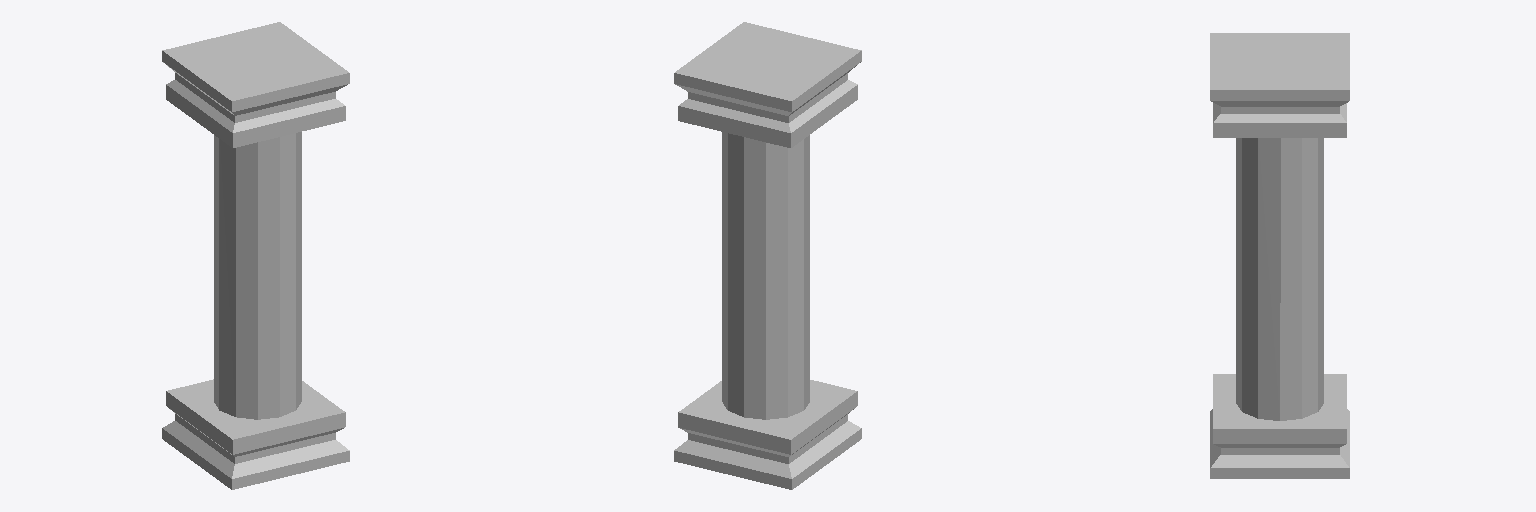
File: Columns.obj
3 views of the same model, side by side, from view 1: azimuth 30°, elevation 25°; view 2: azimuth 150°, elevation 25°; view 3: azimuth 270°, elevation 25° (orthographic).
Parts seen in each view (by area): view 1: Cylinder.005; view 2: Cylinder.005; view 3: Cylinder.005.
Boxes of the visible parts, box(x1,y1,x2,y2) form: Cylinder.005: box(162, 22, 349, 489); Cylinder.005: box(674, 22, 861, 489); Cylinder.005: box(1210, 33, 1349, 478).
Bounding box in the file's own units: 2.49 × 7.86 × 2.55.